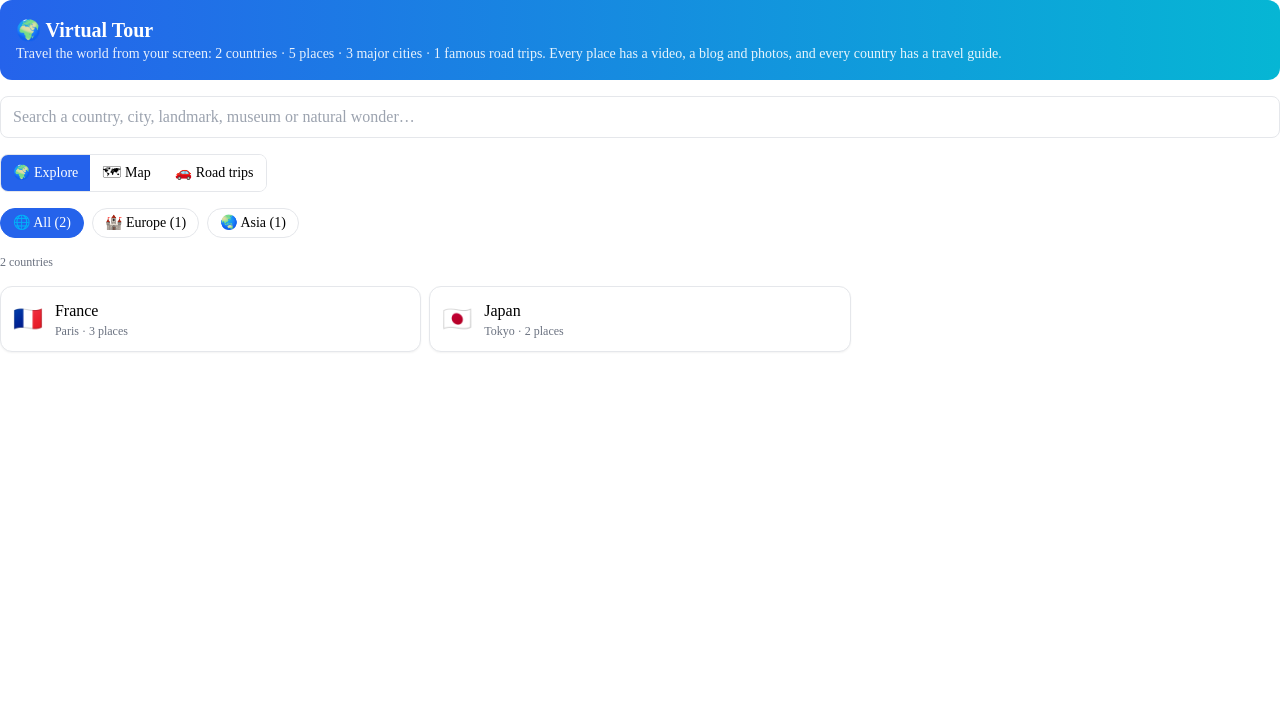
Test: VirtualTour › country page: the travel guide covers every topic and shows live weather and the exchange rate
Click the button "🇫🇷 France Paris · 3 places" at (77, 310), box x1=0 y1=286 x2=421 y2=352
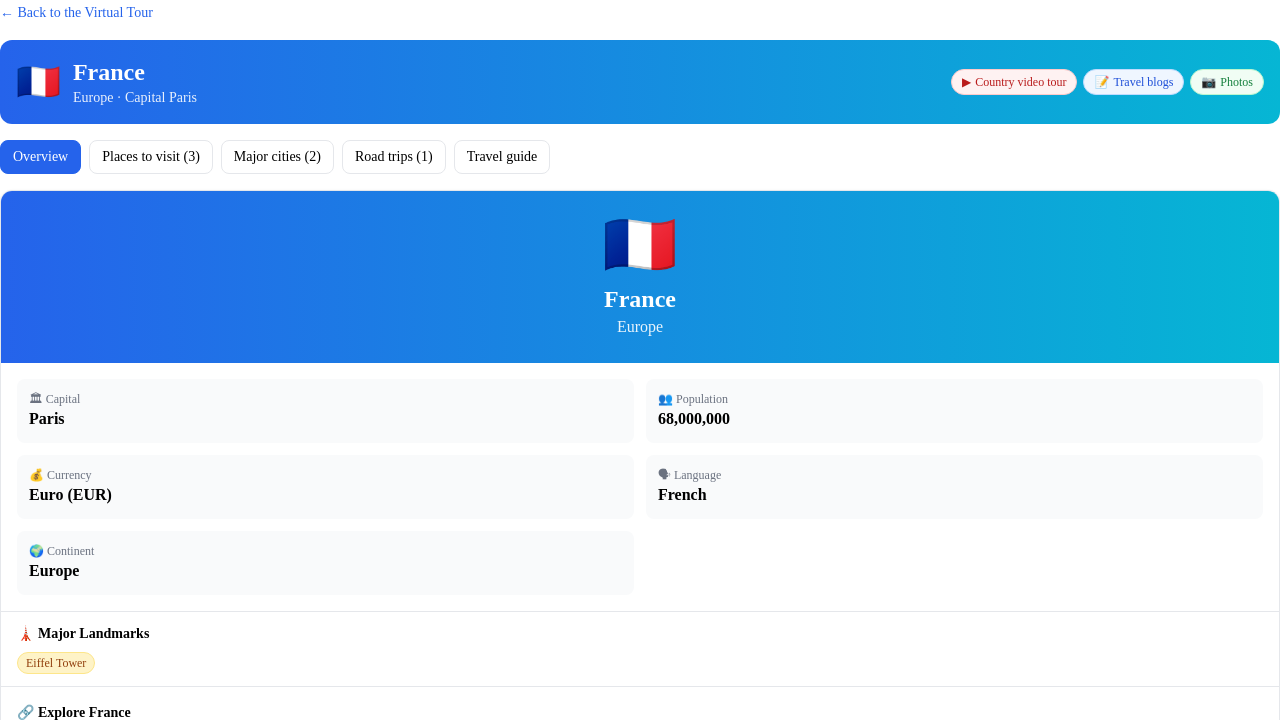
Click the button "Travel guide" at (502, 157), box x1=454 y1=140 x2=550 y2=174
(page scrolled)
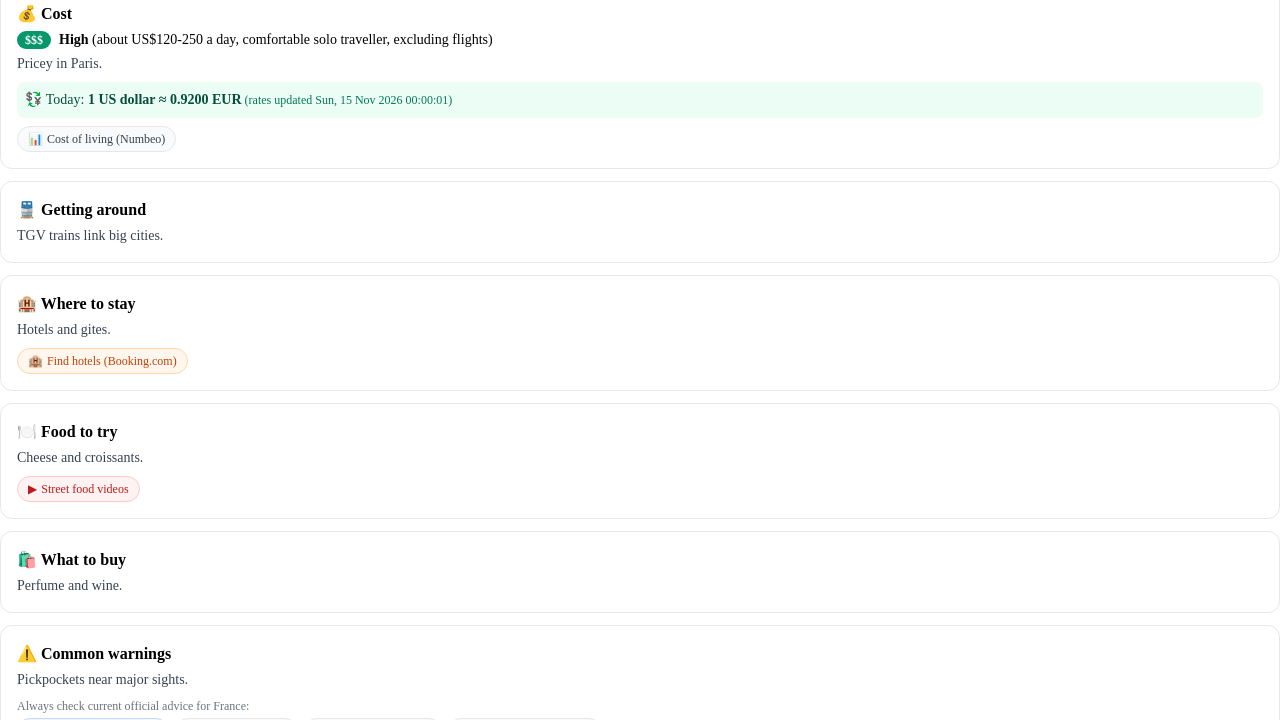
Check: the heading "💰 Cost" is shown, box x1=17 y1=4 x2=72 y2=22
Check: the heading "🚆 Getting around" is shown, box x1=17 y1=200 x2=146 y2=218
Check: the heading "🏨 Where to stay" is shown, box x1=17 y1=294 x2=136 y2=312
